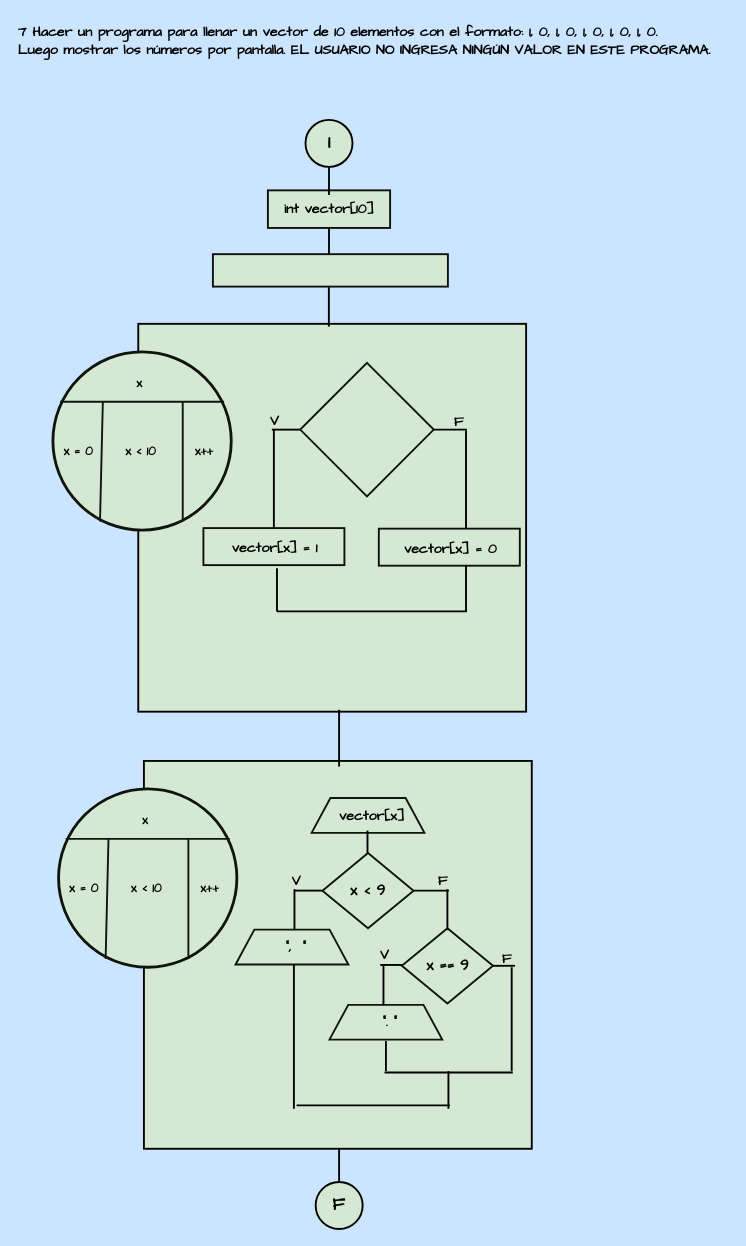
Image size: 746x1246. Some labels were removed from this diagram. Here are the shapes that lost their labels. From the top down, the centre of each, then its label:
the point at 330,270: int x = 0, par = 0, impar = 0
the point at 366,429: x % 2 == 0
